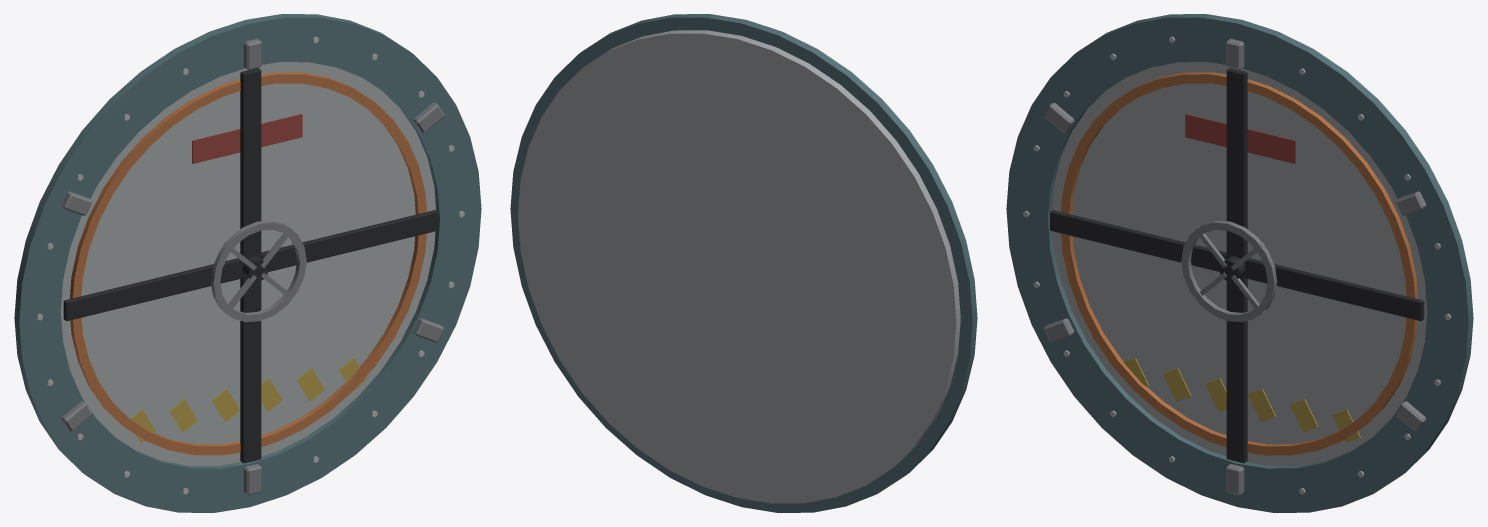
Rendered from astro_sealed_hatch.fbx.
3 renders of one model, left to right at view 1: azimuth 30°, elevation 25°; view 2: azimuth 150°, elevation 25°; view 3: azimuth 330°, elevation 25°, orthographic.
Parts seen in each view (by area): view 1: SealedHatch_Body; view 2: SealedHatch_Body; view 3: SealedHatch_Body.
Part boxes in pixels (box(x1,y1,x2,y2)): SealedHatch_Body: box(14, 14, 481, 512); SealedHatch_Body: box(510, 14, 977, 512); SealedHatch_Body: box(1006, 14, 1473, 512).
Size of the model in its own units: 546 by 546 by 39.
